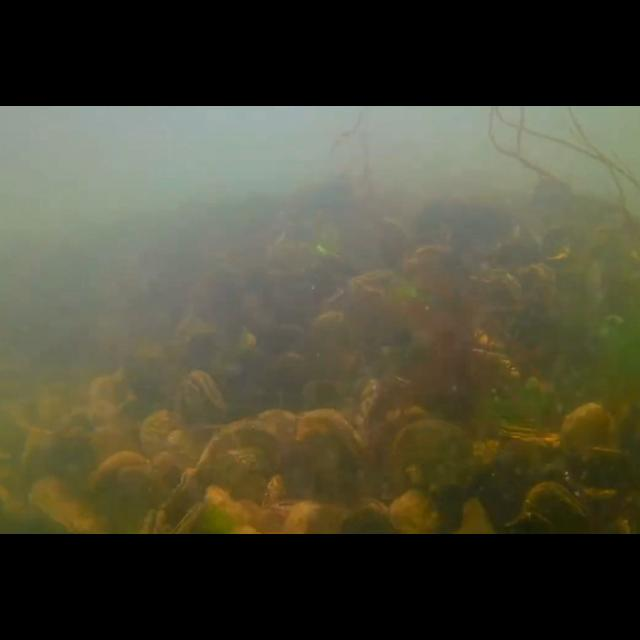Oyster-Closed: (154, 423, 308, 535), (560, 403, 616, 489), (522, 484, 592, 534)
Oyster-Indeterminate: (256, 409, 386, 535), (390, 420, 474, 534), (89, 450, 168, 534), (139, 408, 201, 504), (28, 475, 102, 535), (490, 263, 560, 307), (464, 274, 524, 314), (349, 268, 396, 300)
Oyster-Open: (174, 370, 226, 448), (343, 373, 381, 445)
